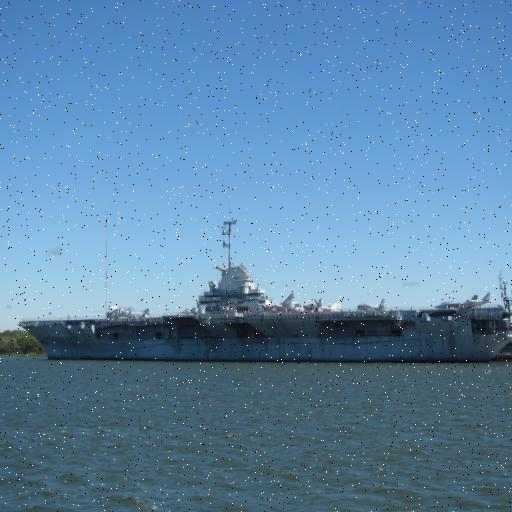Portanaves: (17, 197, 512, 367)
